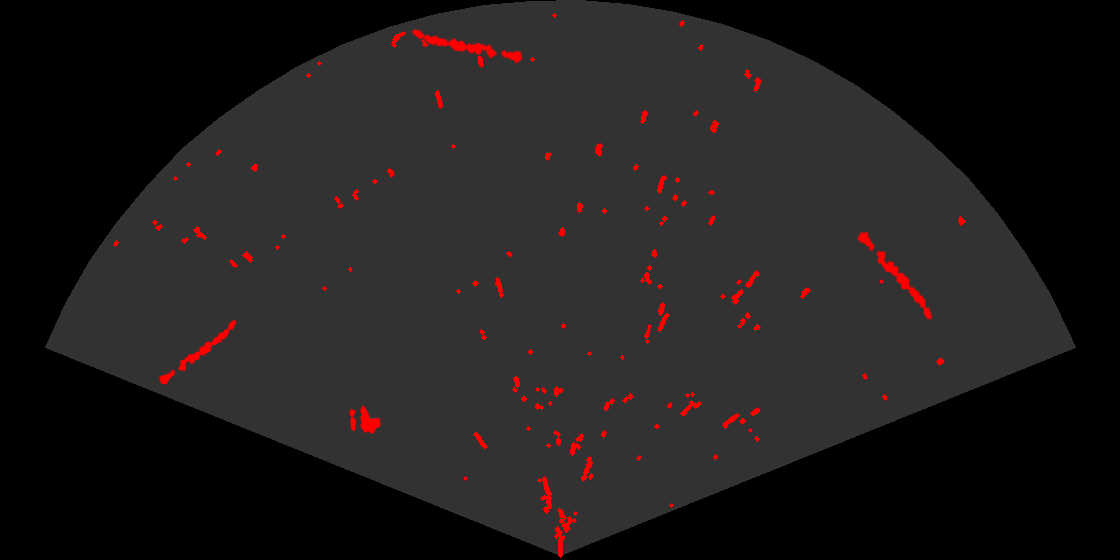ball: (348, 404, 382, 435)
chain: (856, 230, 934, 321), (157, 319, 238, 386), (410, 27, 525, 66)
